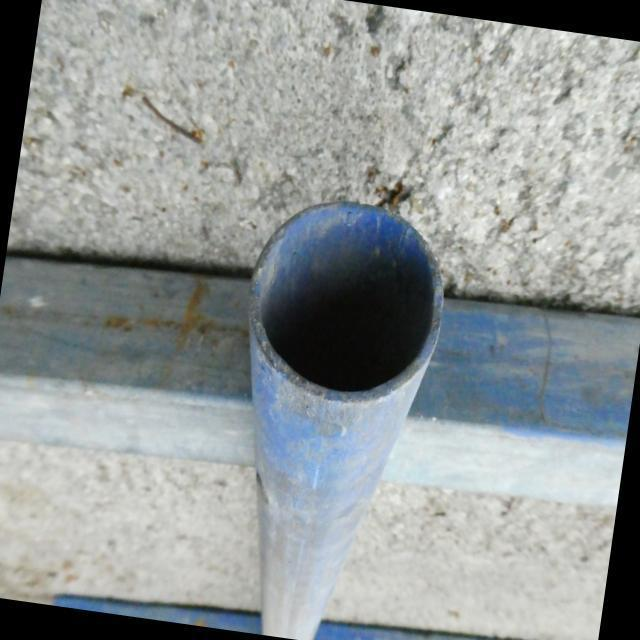pipe: (248, 198, 444, 399)
